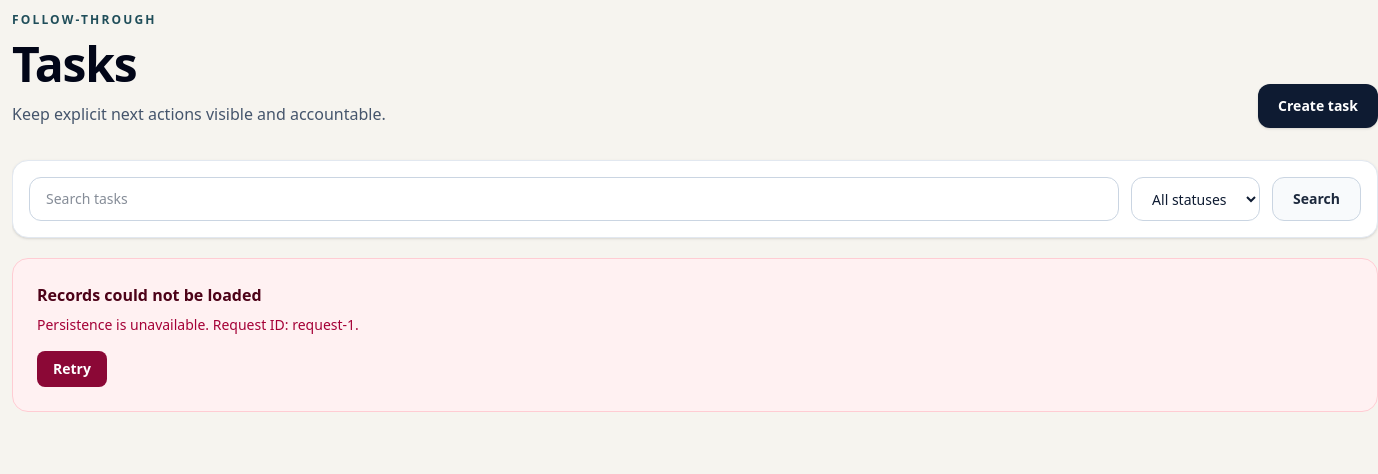
BusinessEntityList › shows a recoverable error state
This screenshot has width=1378, height=474.
Expected: the message shows "Persistence is unavailable.", [37, 315, 359, 334]
Click the button "Retry". click: {"x": 72, "y": 369}
box: [37, 351, 107, 387]
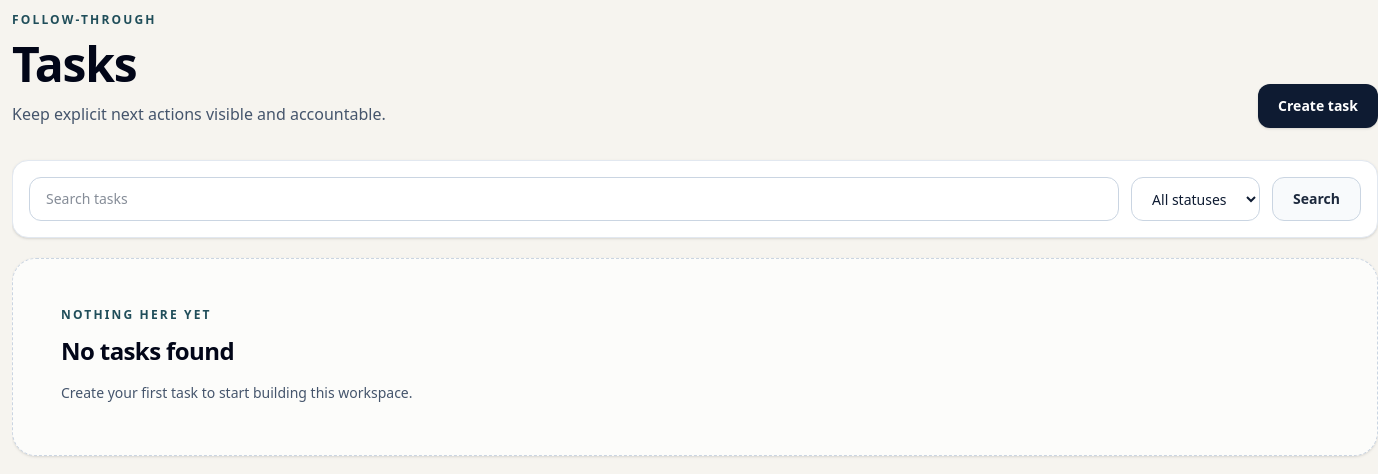
Now the heading "No tasks found" is shown, box [61, 334, 234, 367]
